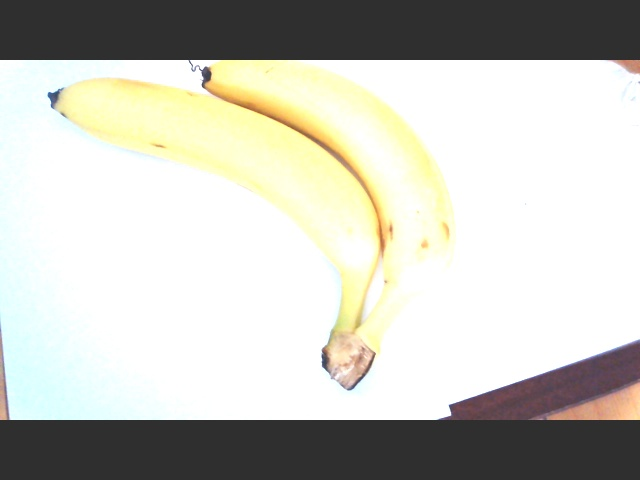banana: (68, 68, 460, 382)
